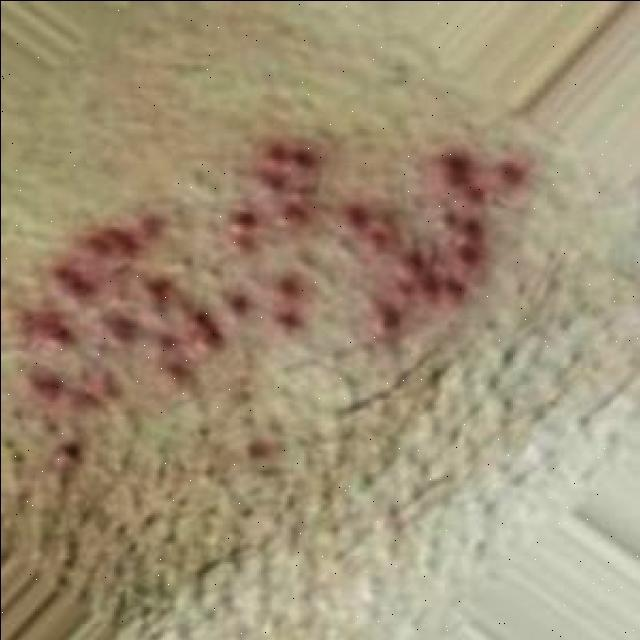Shingles: (9, 135, 522, 456)
